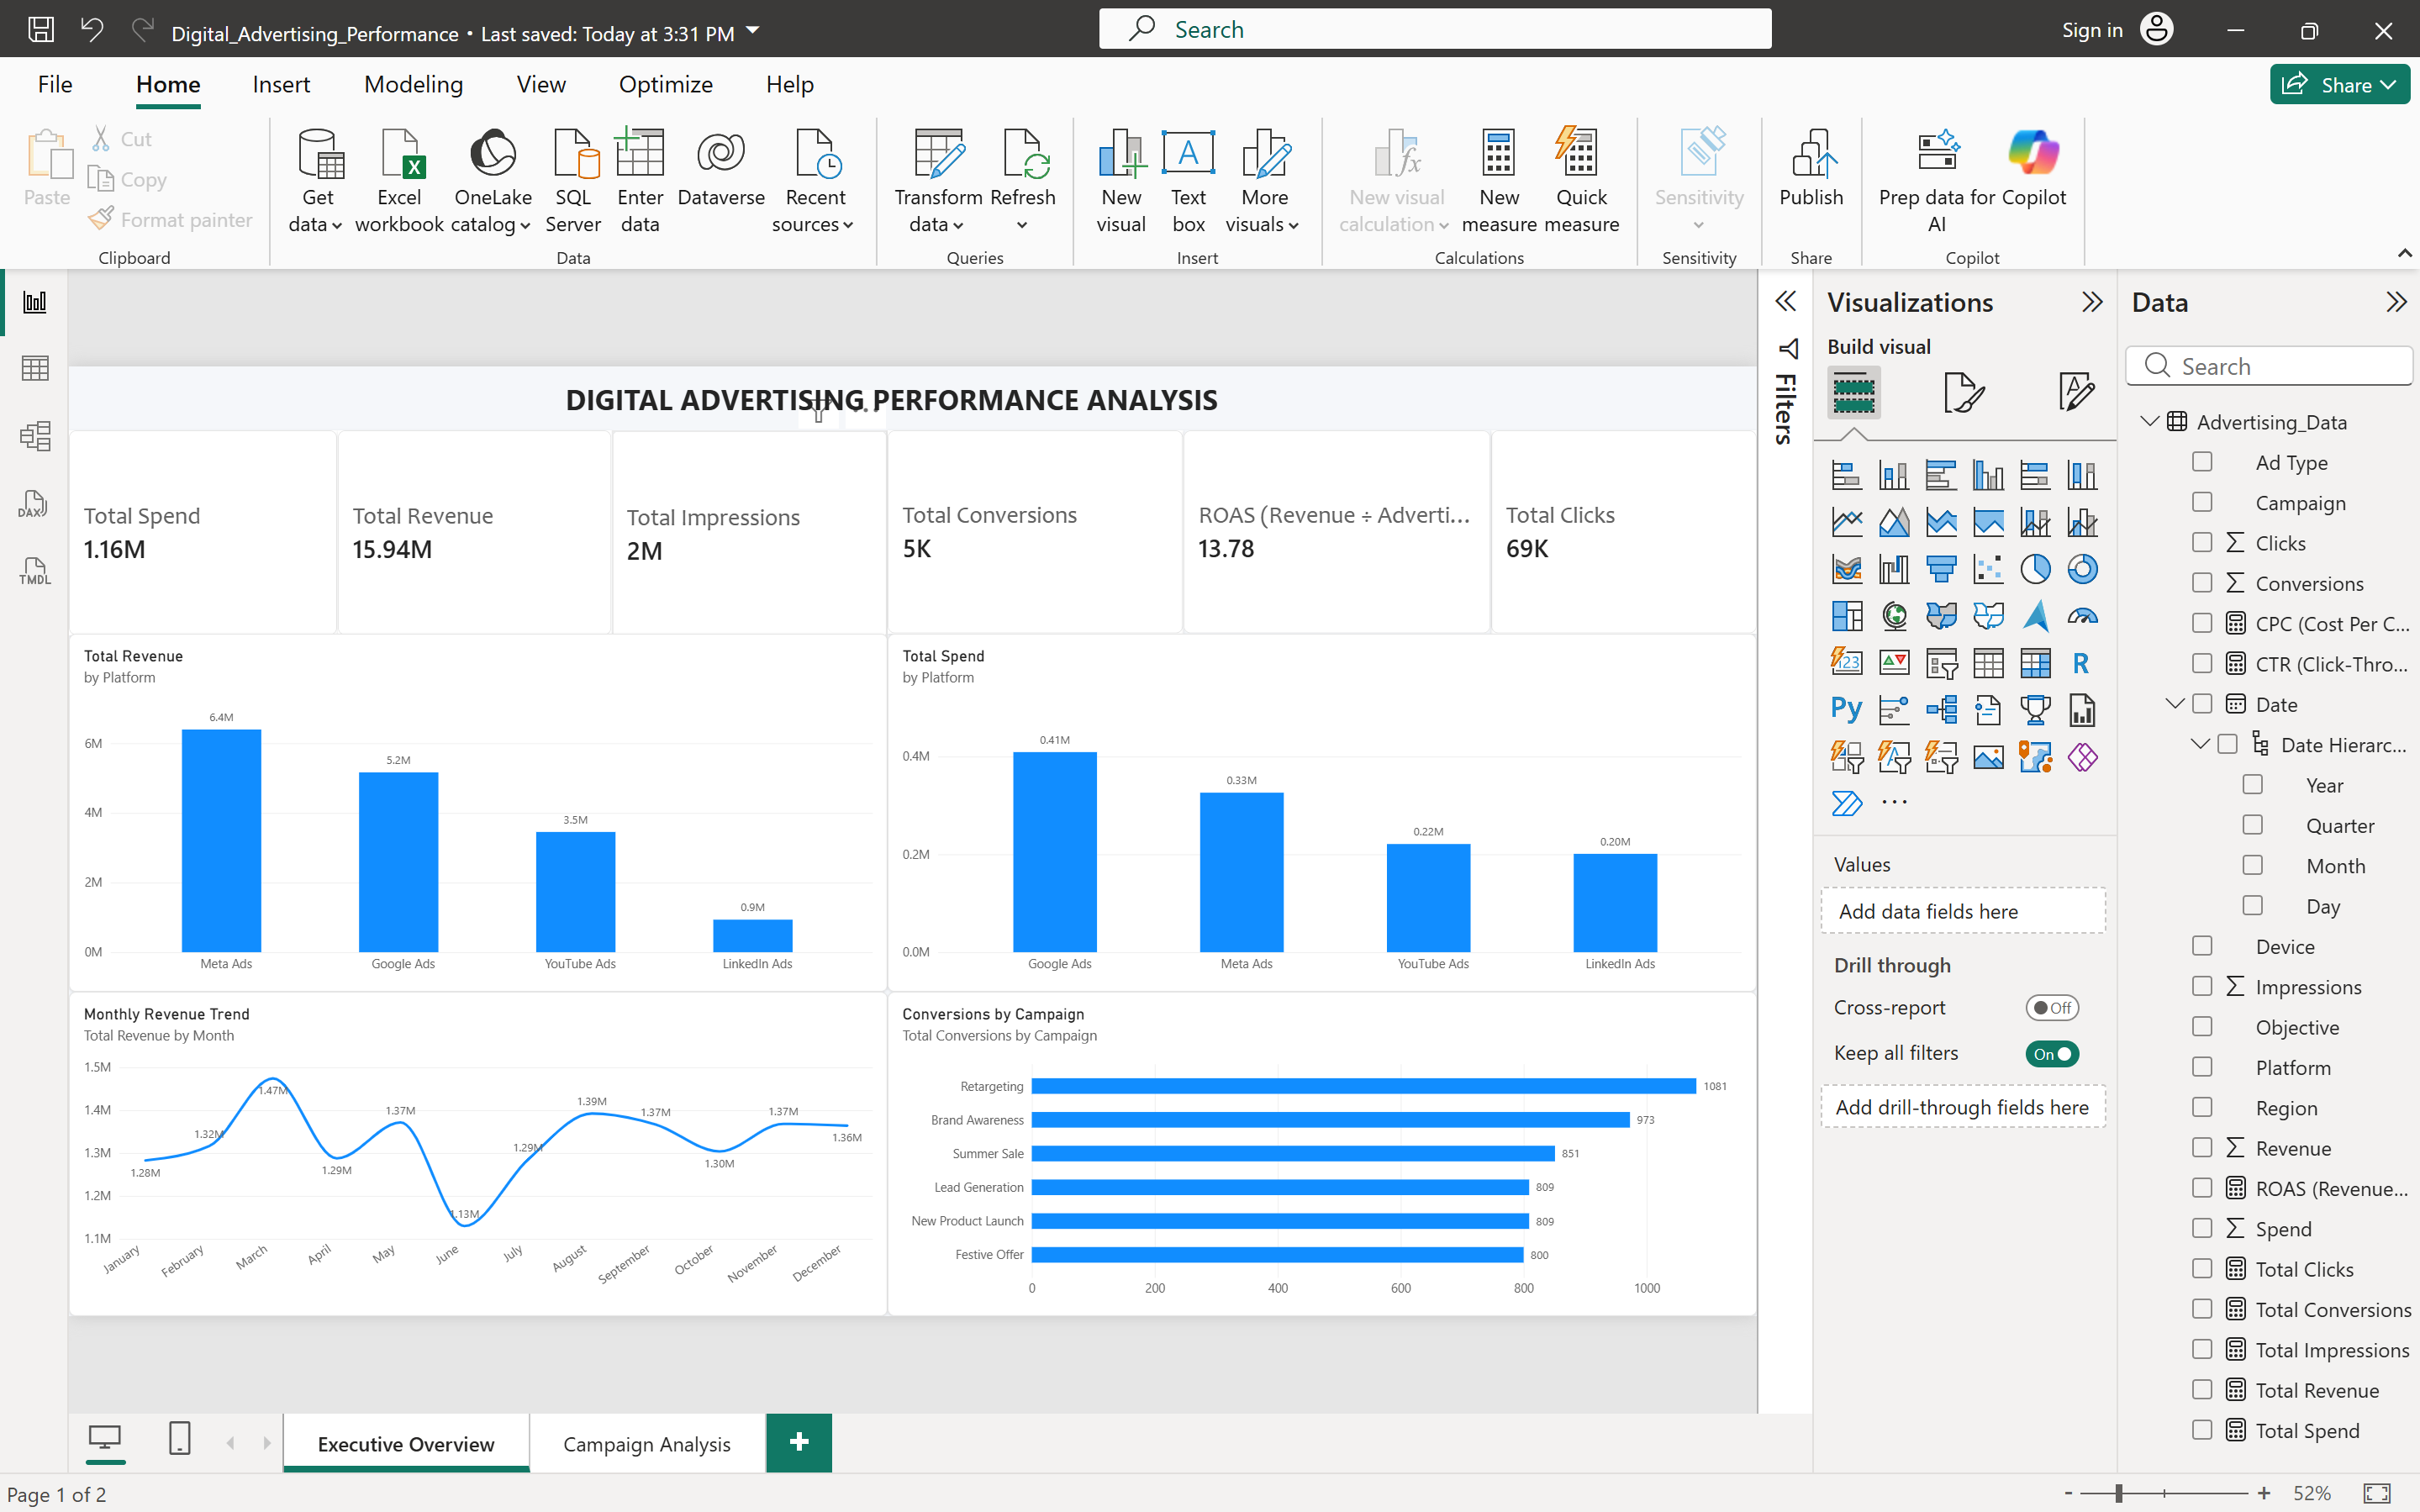

What the dashboard file says about the page in this screenshot:
{"tool":"powerbi","page":{"name":"Executive Overview","canvas":[1920,1080],"ordinal":0},"visuals":[{"type":"cardVisual","fields":{"Data":["Advertising_Data.Total Spend"]},"box":[0,72.7,306,233.3],"z":0},{"type":"cardVisual","fields":{"Data":["Advertising_Data.Total Revenue"]},"box":[306,72.7,311.7,233.3],"z":1000},{"type":"cardVisual","fields":{"Data":["Advertising_Data.Total Impressions"]},"box":[617.7,72.7,313.6,237.1],"z":2000},{"type":"cardVisual","fields":{"Data":["Advertising_Data.Total Clicks"]},"box":[1617.8,72.7,302.2,231.4],"z":3000},{"type":"cardVisual","fields":{"Data":["Advertising_Data.Total Conversions"]},"box":[931.3,72.7,336.6,231.4],"z":4000},{"type":"cardVisual","fields":{"Data":["Advertising_Data.ROAS (Revenue ÷ Advertising Spend)"]},"box":[1267.9,72.7,350,231.4],"z":5000},{"type":"clusteredColumnChart","fields":{"Category":["Advertising_Data.Platform"],"Y":["Advertising_Data.Total Revenue"]},"box":[0,304.1,931.3,407.3],"z":6000},{"type":"clusteredColumnChart","fields":{"Category":["Advertising_Data.Platform"],"Y":["Advertising_Data.Total Spend"]},"box":[931.3,304.1,988.7,407.3],"z":7000},{"type":"lineChart","title":"Monthly Revenue Trend","fields":{"Category":["Advertising_Data.Date.Variation.Date Hierarchy.Year","Advertising_Data.Date.Variation.Date Hierarchy.Quarter","Advertising_Data.Date.Variation.Date Hierarchy.Month","Advertising_Data.Date.Variation.Date Hierarchy.Day"],"Y":["Advertising_Data.Total Revenue"]},"box":[0,711.4,931.3,369.1],"z":8000},{"type":"clusteredBarChart","title":"Conversions by Campaign","fields":{"Category":["Advertising_Data.Campaign"],"Y":["Advertising_Data.Total Conversions"]},"box":[931,711,989,369],"z":9000},{"type":"textbox","box":[485.7,15.3,900.7,44],"z":10000}]}

Visuals, with their boxes on the page's 1920x1080 design canvas (x1, y1, x2, y2). These are canvas units, not pixel positions in the 2420x1512 screenshot, which may show the page scaled, cropped or inside an application window:
cardVisual - Advertising_Data.Total Spend: select_region(0, 73, 306, 306)
cardVisual - Advertising_Data.Total Revenue: select_region(306, 73, 618, 306)
cardVisual - Advertising_Data.Total Impressions: select_region(618, 73, 931, 310)
cardVisual - Advertising_Data.Total Clicks: select_region(1618, 73, 1920, 304)
cardVisual - Advertising_Data.Total Conversions: select_region(931, 73, 1268, 304)
cardVisual - Advertising_Data.ROAS (Revenue ÷ Advertising Spend): select_region(1268, 73, 1618, 304)
clusteredColumnChart - Advertising_Data.Platform x Advertising_Data.Total Revenue: select_region(0, 304, 931, 711)
clusteredColumnChart - Advertising_Data.Platform x Advertising_Data.Total Spend: select_region(931, 304, 1920, 711)
"Monthly Revenue Trend" lineChart: select_region(0, 711, 931, 1080)
"Conversions by Campaign" clusteredBarChart: select_region(931, 711, 1920, 1080)
textbox: select_region(486, 15, 1386, 59)
